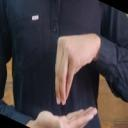hand: (55, 32, 101, 105), (31, 107, 99, 128)
